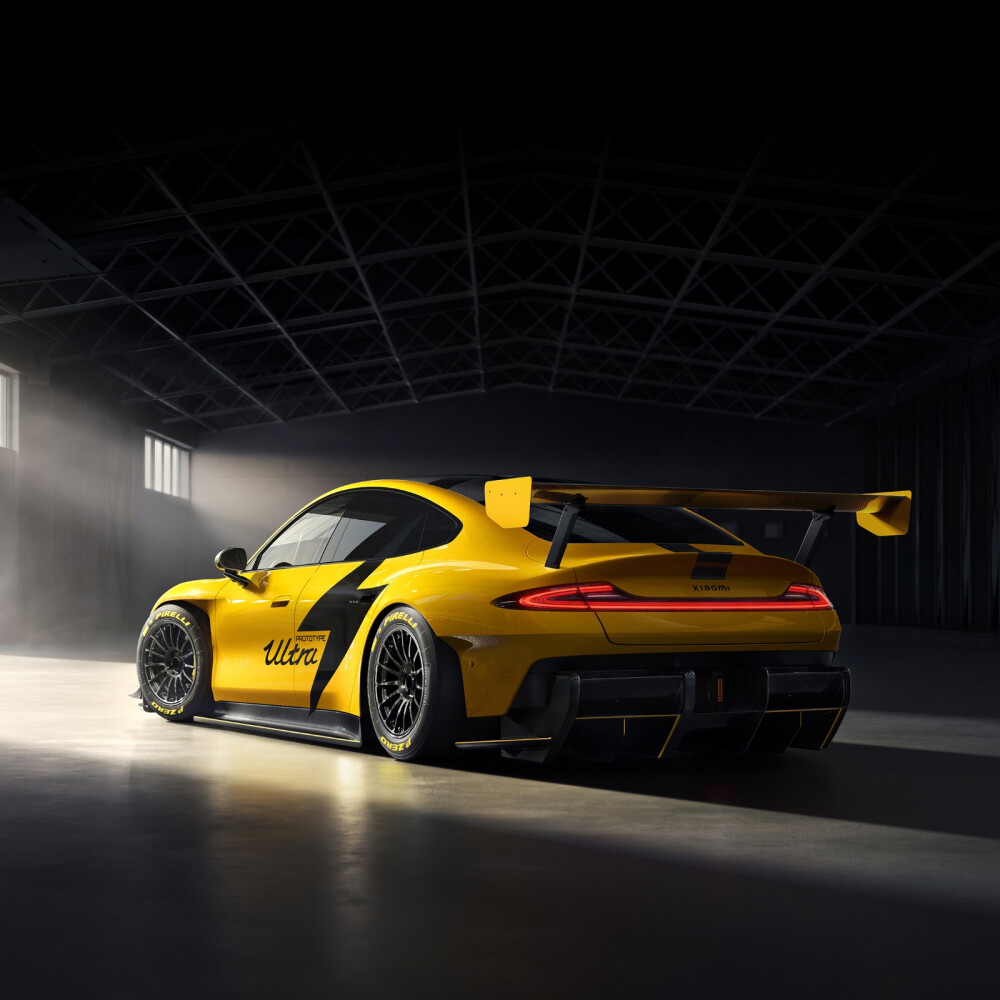su7: (89, 477, 893, 779)
